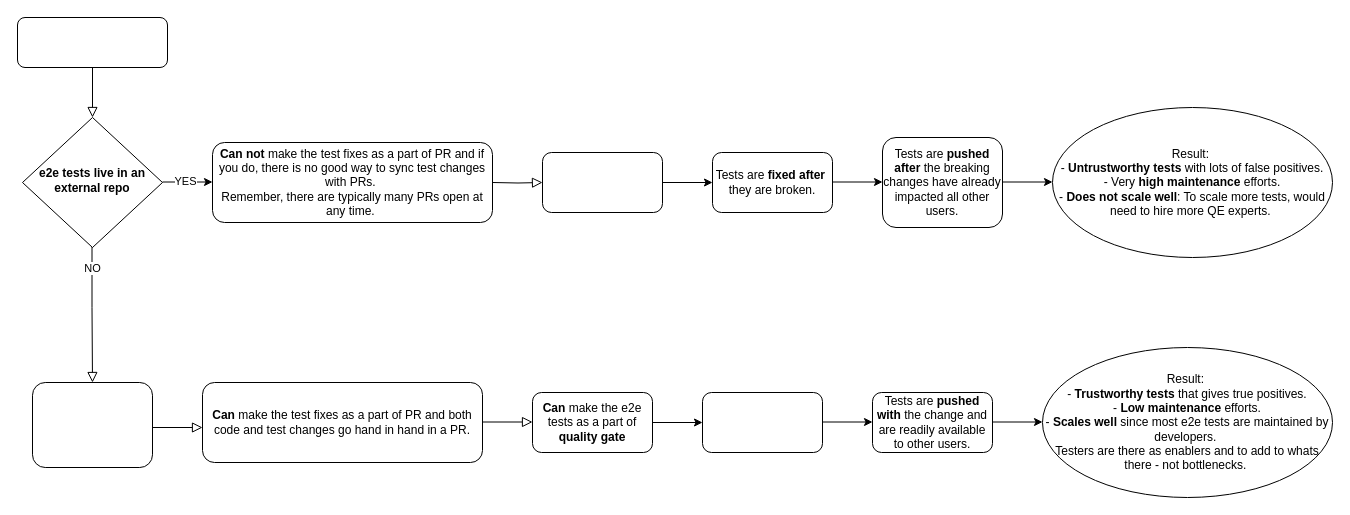
Image size: 1350x515. Some labels were removed from this diagram. Each missing label, with the box of its shape:
Can NOT make the e2e tests as a part of quality gate: (542, 152, 662, 212)
e2e tests live in the same repository as application code.: (32, 382, 152, 468)
New PR with breaking changes in it created.: (16, 16, 168, 68)
Tests are fixed when they are broken.: (702, 392, 822, 452)
